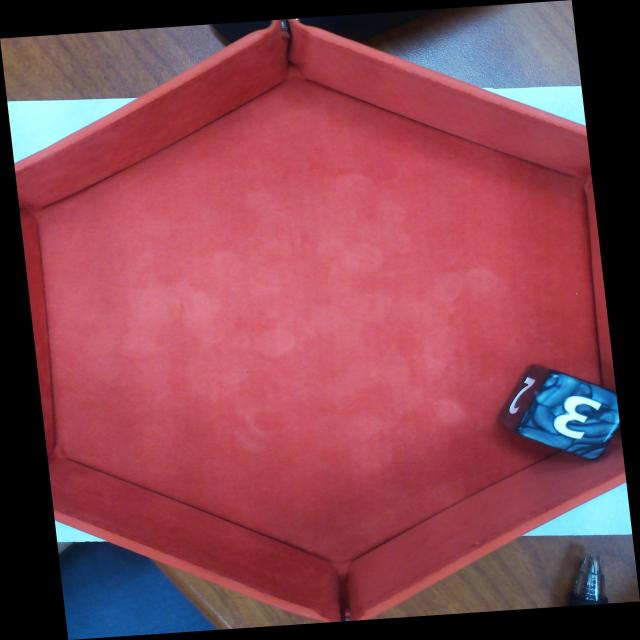dice: (521, 375, 621, 460)
